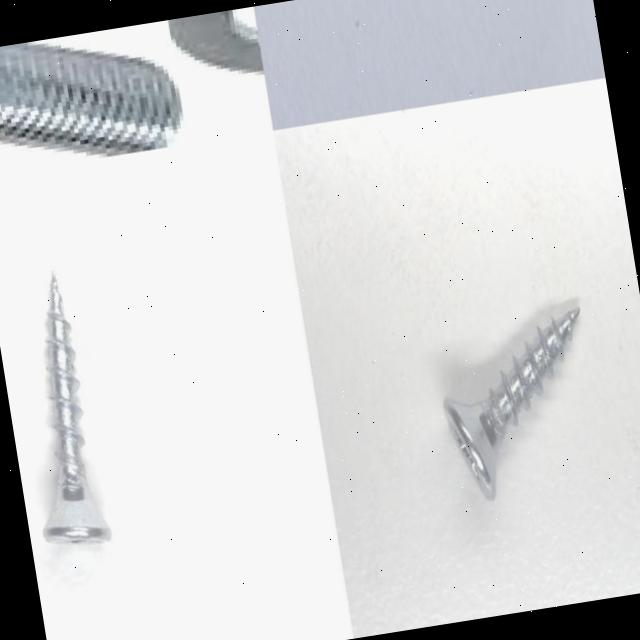Screw: (443, 309, 581, 502), (0, 42, 179, 158), (43, 272, 113, 545)
